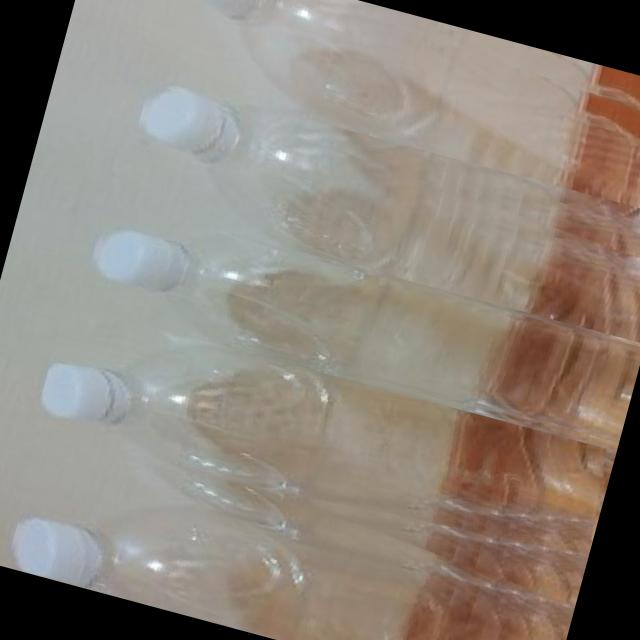plastic bottle: (29, 303, 616, 586), (78, 203, 640, 453), (117, 82, 640, 343), (6, 409, 589, 640), (147, 0, 640, 217)
